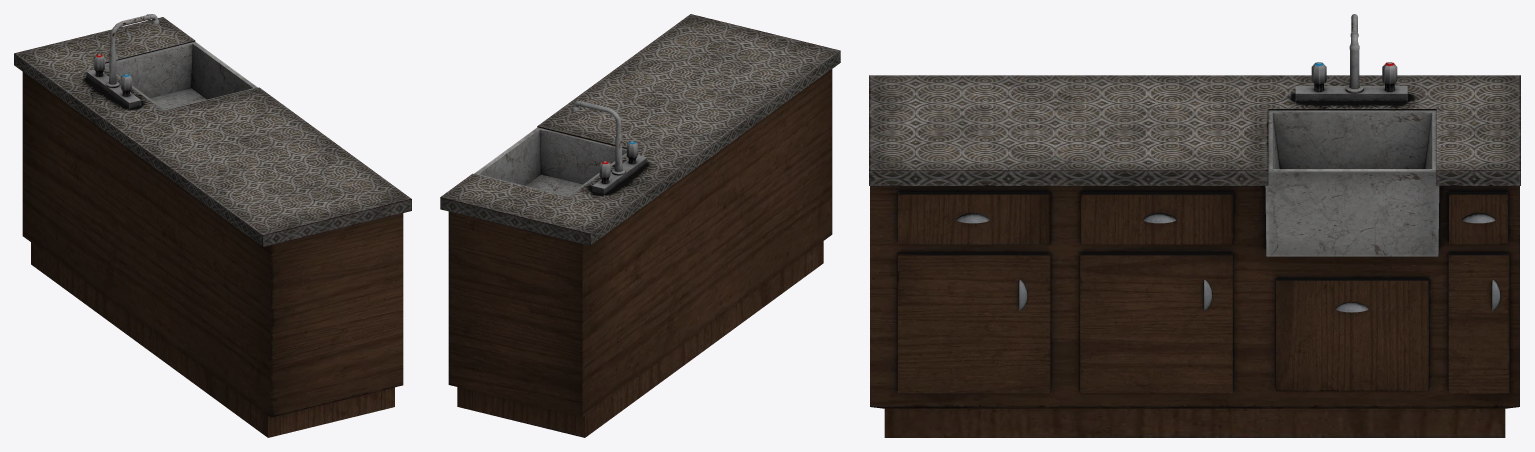
File: Kitchen.glb
The picture shows the model from 3 angles, left to right: view 1: azimuth 30°, elevation 25°; view 2: azimuth 150°, elevation 25°; view 3: azimuth 270°, elevation 25°; orthographic projection. The views are drawn at different scales.
Parts seen in each view (by area): view 1: Kitchen_Main_0, Kitchen_Top_0, Kitchen_Basin_0, Kitchen_Faucet_0; view 2: Kitchen_Main_0, Kitchen_Top_0, Kitchen_Basin_0, Kitchen_Faucet_0; view 3: Kitchen_Doors_0, Kitchen_Main_0, Kitchen_Top_0, Kitchen_Basin_0, Kitchen_Faucet_0, Kitchen_Handles_0.
Part boxes in pixels (left/top/right/bottom): Kitchen_Main_0: left=22, top=72, right=403, bottom=437; Kitchen_Top_0: left=14, top=17, right=411, bottom=247; Kitchen_Basin_0: left=105, top=41, right=257, bottom=110; Kitchen_Faucet_0: left=86, top=14, right=158, bottom=108; Kitchen_Main_0: left=448, top=69, right=832, bottom=437; Kitchen_Top_0: left=440, top=14, right=840, bottom=245; Kitchen_Basin_0: left=474, top=127, right=626, bottom=196; Kitchen_Faucet_0: left=572, top=100, right=647, bottom=194; Kitchen_Doors_0: left=897, top=192, right=1509, bottom=393; Kitchen_Main_0: left=870, top=186, right=1519, bottom=437; Kitchen_Top_0: left=869, top=75, right=1520, bottom=185; Kitchen_Basin_0: left=1265, top=110, right=1439, bottom=256; Kitchen_Faucet_0: left=1295, top=14, right=1407, bottom=101; Kitchen_Handles_0: left=956, top=213, right=1500, bottom=312.
Bounding box in the file's own units: 2.38 × 4.2 × 6.82.
Materials: 6 (6 with a texture image).
